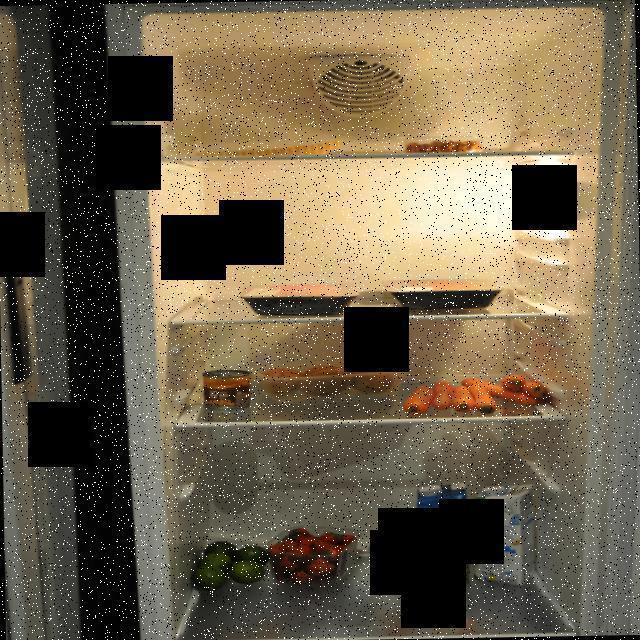beef: (379, 276, 506, 310)
carrot: (394, 373, 554, 416)
corn: (202, 368, 252, 411)
ground_beef: (240, 282, 360, 316)
lime: (190, 539, 270, 592)
milk: (411, 479, 474, 588), (472, 482, 538, 586)
potato: (260, 357, 400, 396)
shrimp: (402, 141, 481, 156)
strawberries: (261, 522, 363, 588)
